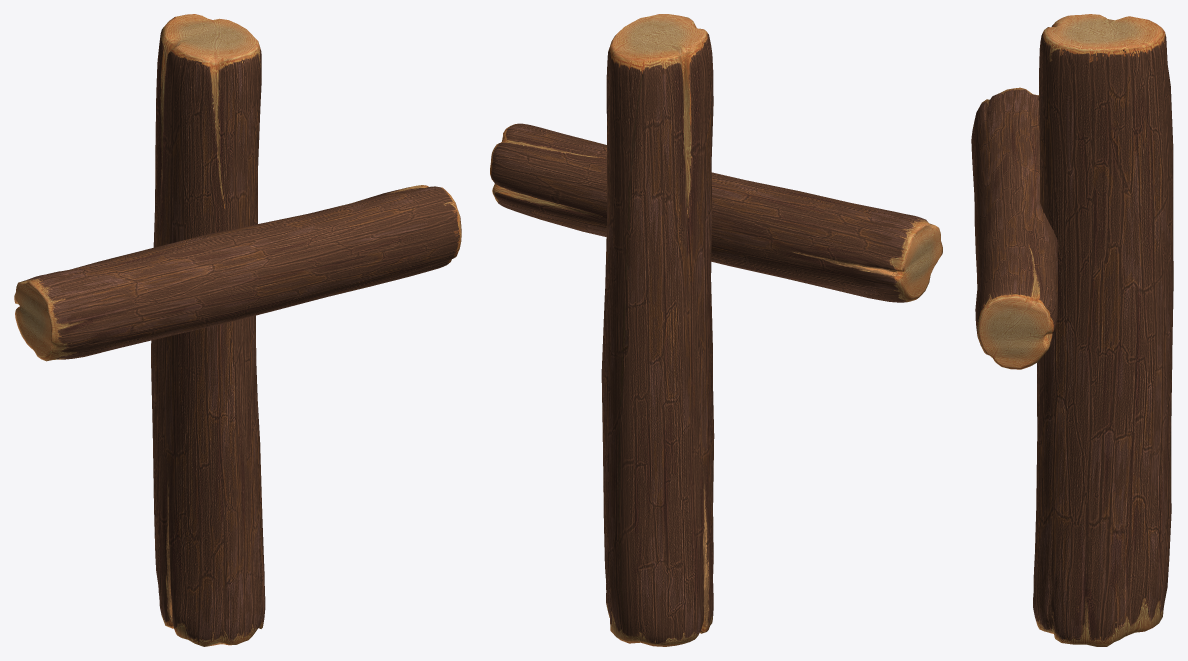
File: Cross.glb
The picture shows the model from 3 angles, left to right: view 1: azimuth 30°, elevation 25°; view 2: azimuth 150°, elevation 25°; view 3: azimuth 270°, elevation 25°; orthographic projection. The views are drawn at different scales.
Parts seen in each view (by area): view 1: node_id38, node_id30; view 2: node_id38, node_id30; view 3: node_id38, node_id30.
Part boxes in pixels (x1=…): node_id38: x1=151, y1=14, x2=265, y2=646; node_id30: x1=14, y1=185, x2=461, y2=361; node_id38: x1=601, y1=14, x2=714, y2=646; node_id30: x1=490, y1=123, x2=942, y2=302; node_id38: x1=1033, y1=14, x2=1173, y2=646; node_id30: x1=971, y1=87, x2=1058, y2=369.
Bounding box in the file's own units: 0.1549 × 0.2105 × 0.0644.
2 materials, 2 textured.
